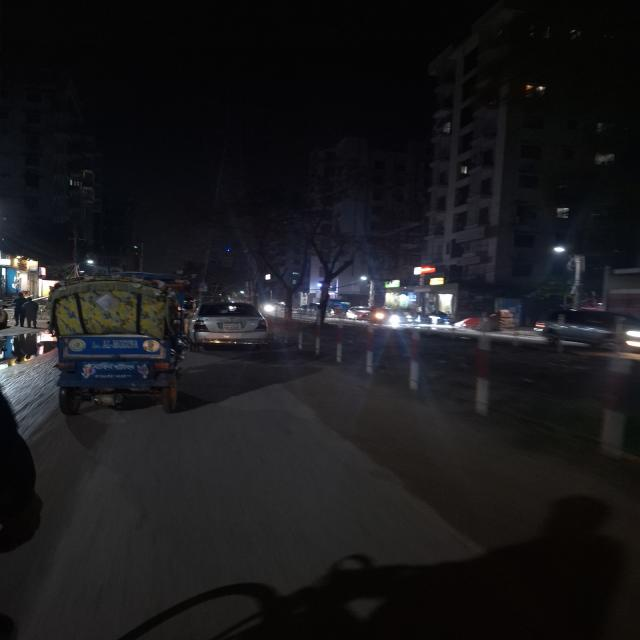car: (180, 299, 276, 355)
rickshaw: (48, 272, 190, 416)
